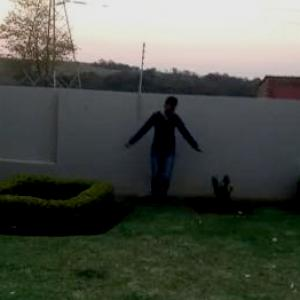land: (119, 87, 208, 212)
